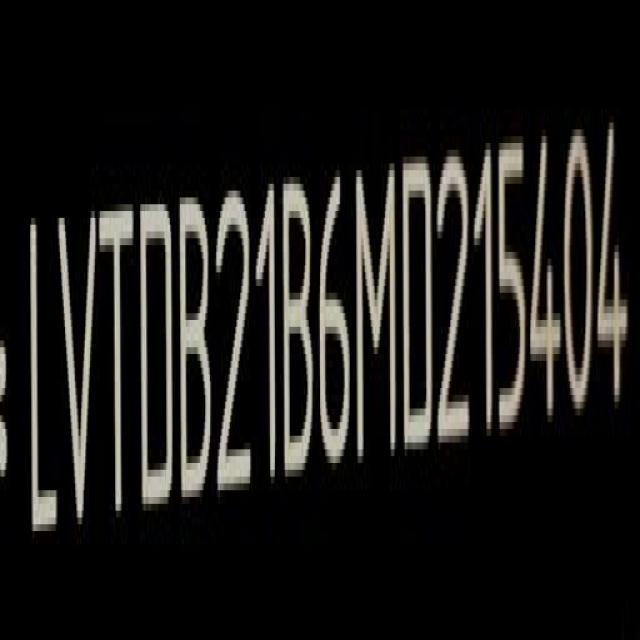0: (564, 122, 596, 425)
1: (258, 178, 282, 500), (474, 137, 496, 446)
2: (216, 187, 256, 508), (437, 145, 472, 461)
4: (528, 128, 564, 432), (598, 118, 632, 420)
5: (498, 129, 530, 442)
6: (319, 168, 353, 482)
B: (180, 190, 215, 518), (284, 174, 317, 488)
D: (137, 192, 175, 522), (402, 148, 436, 466)
L: (20, 208, 58, 548)
M: (358, 156, 402, 472)
T: (102, 189, 136, 534)
V: (54, 200, 100, 544)
